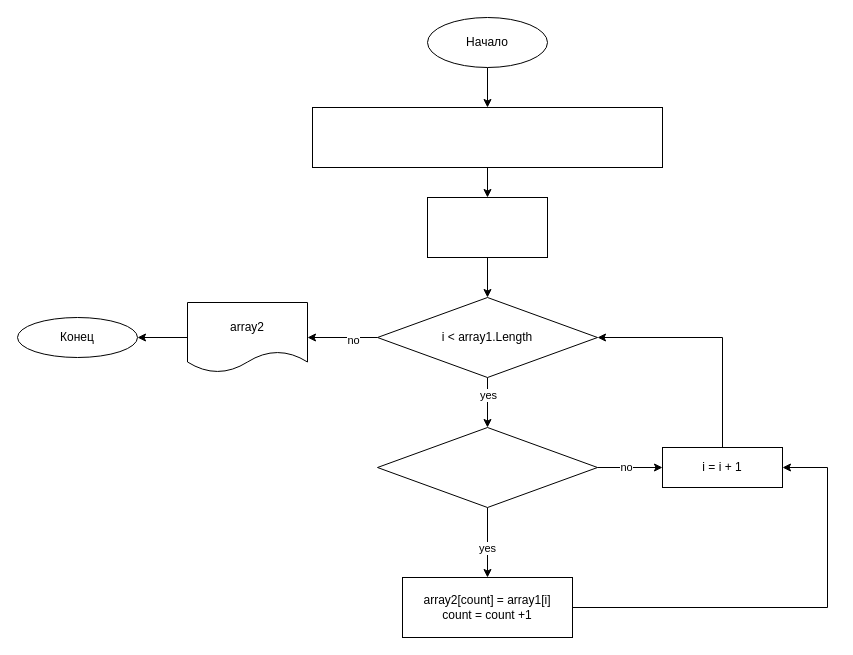
This 853x655 diagram has some shape labels left out. The centre of each missing label's shape, as x and y in pixels:
array1 = ["first", "1", "text", "2", "3", "home", "theme", "GO"] array2 = []: point (487, 137)
array1[i].Length <= 3: point (487, 467)
count = 0 i = 0: point (487, 227)
